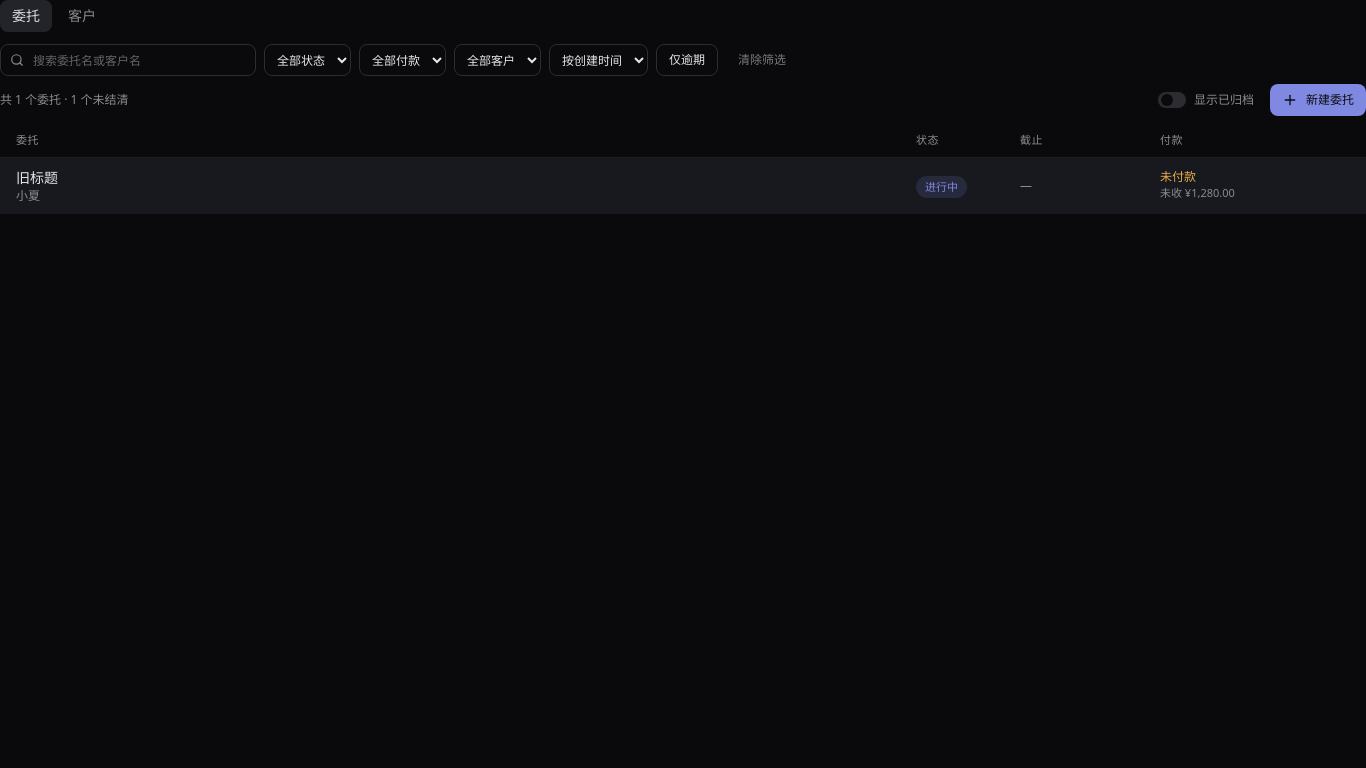
委托列表页 › 点击委托行打开详情，编辑保存后详情即时更新
The image size is (1366, 768).
Click the button with test id "commission-row": (37, 177) [0, 158, 1365, 214]
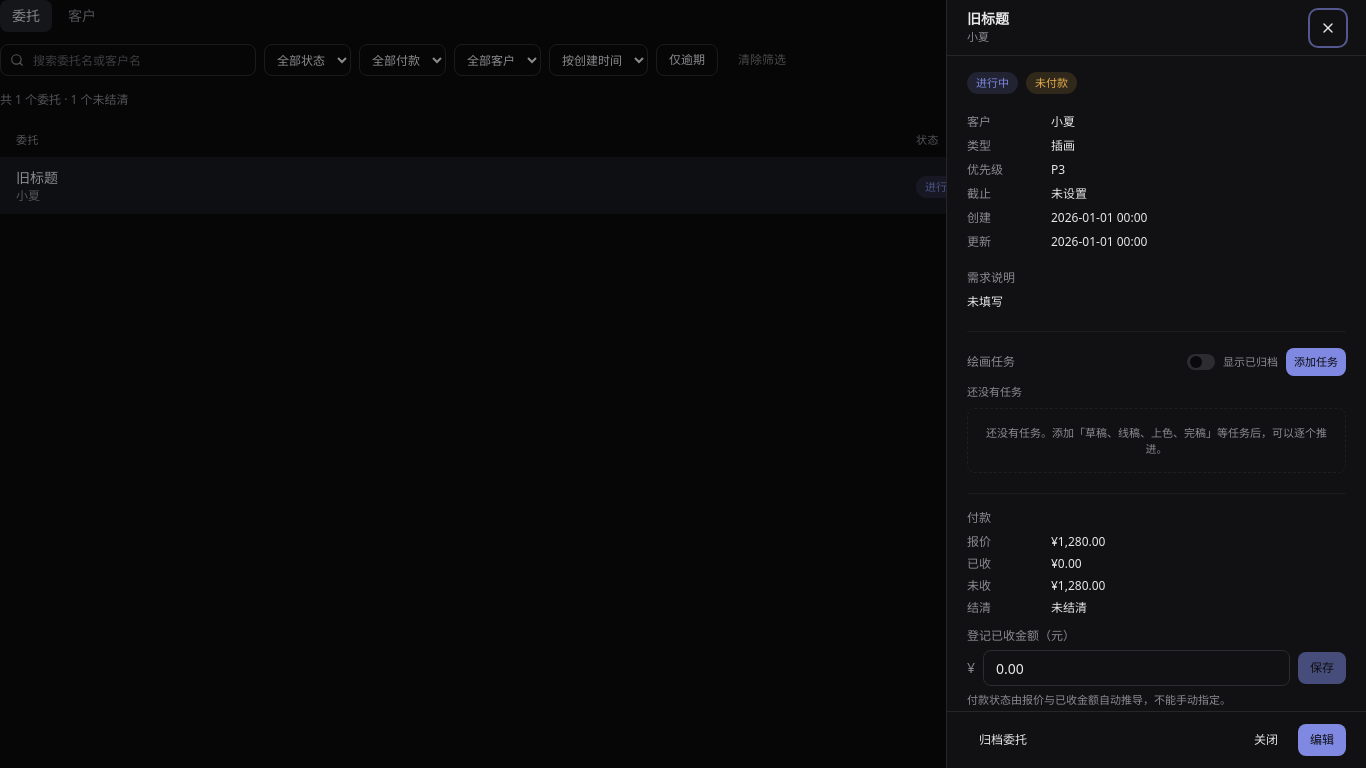
expect the heading "旧标题" is shown: met, box [967, 9, 1009, 28]
expect the text "未付款" is shown: met, box [1026, 72, 1077, 94]
Click the button "编辑": (1322, 740) [1298, 724, 1346, 756]
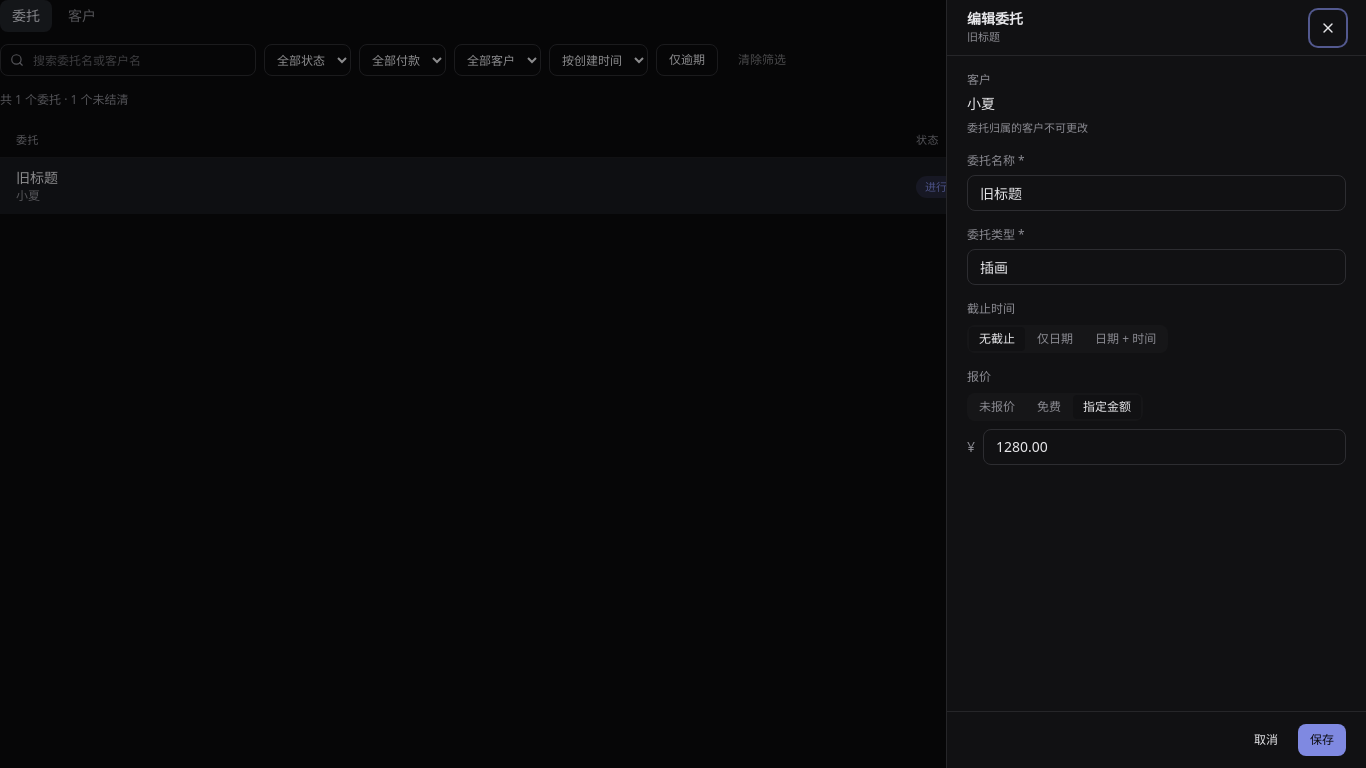
Replace the text in the field labelled "委托名称 *" with "新标题": (1156, 192) [967, 174, 1346, 210]
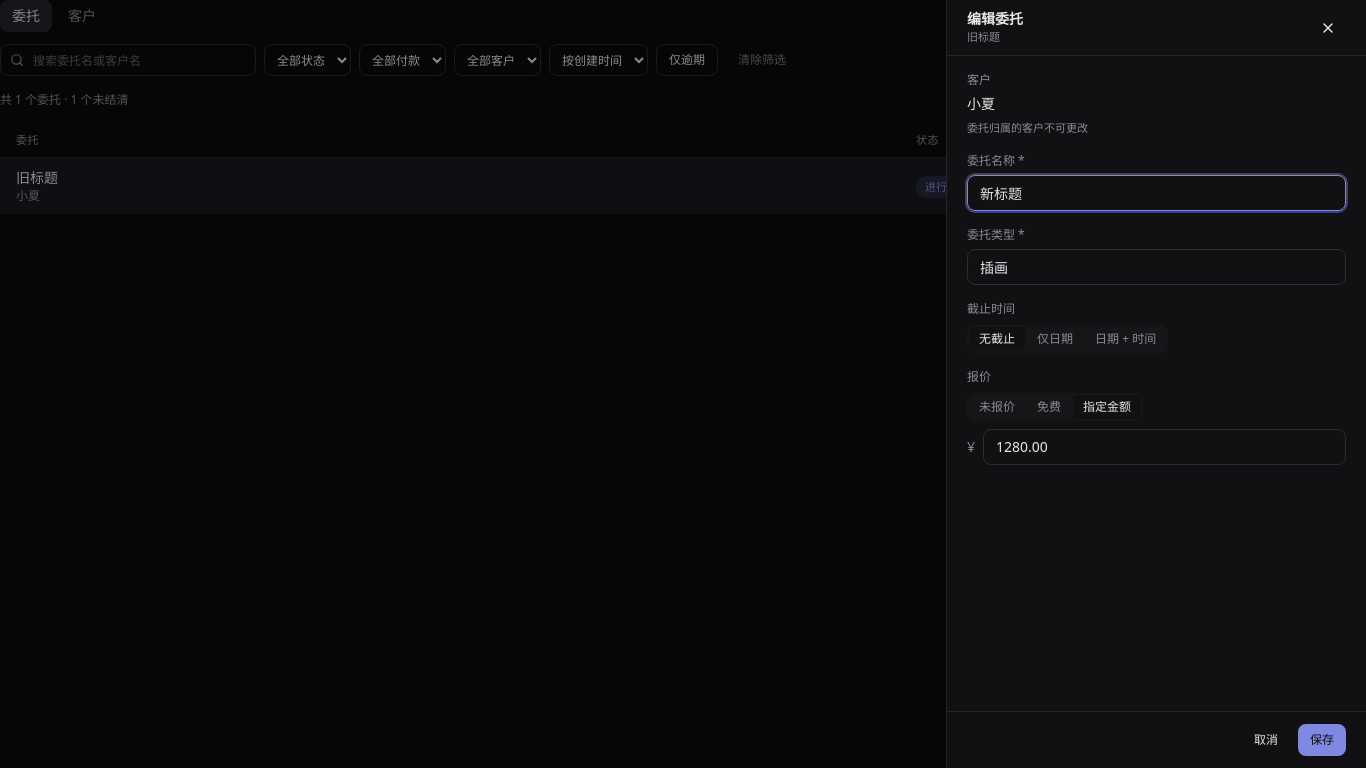
Click the button "保存": (1322, 740) [1298, 724, 1346, 756]
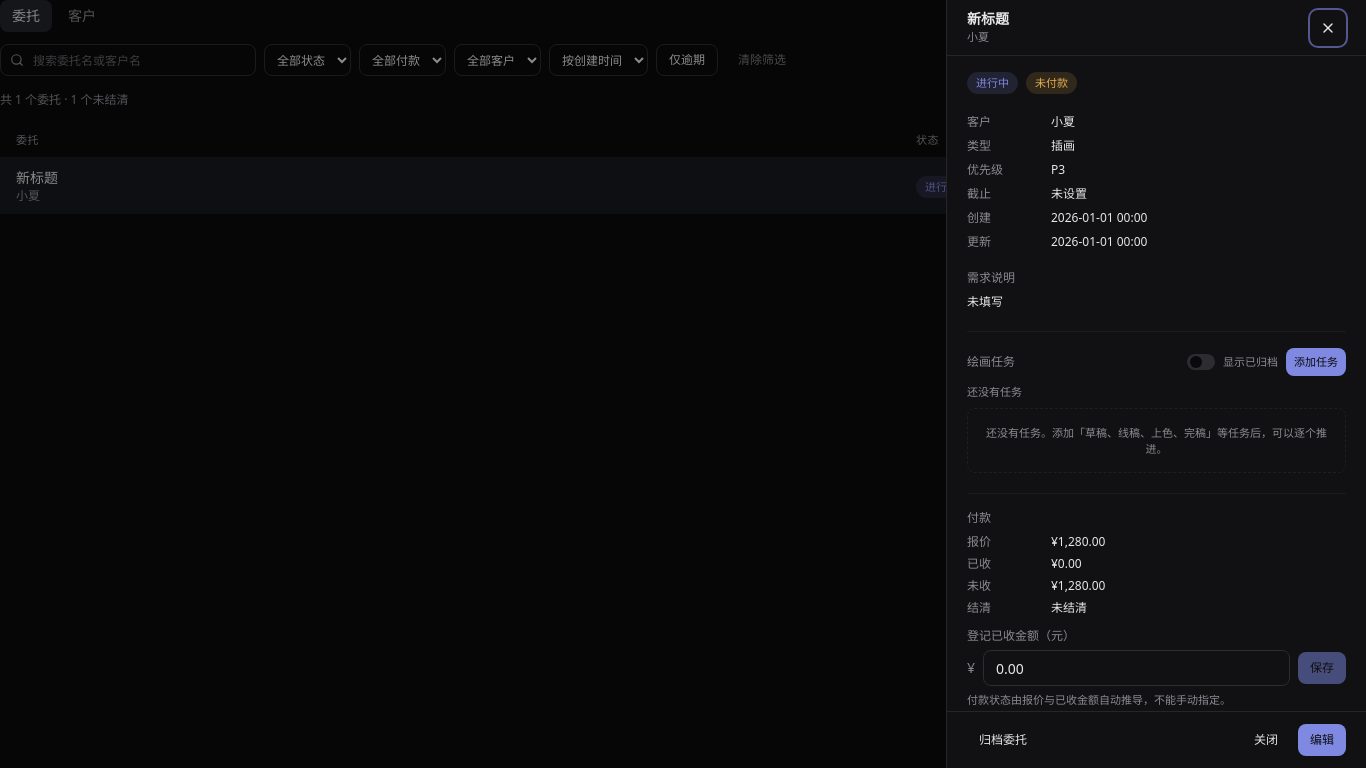
expect the heading "新标题" is shown: met, box [967, 9, 1009, 28]
